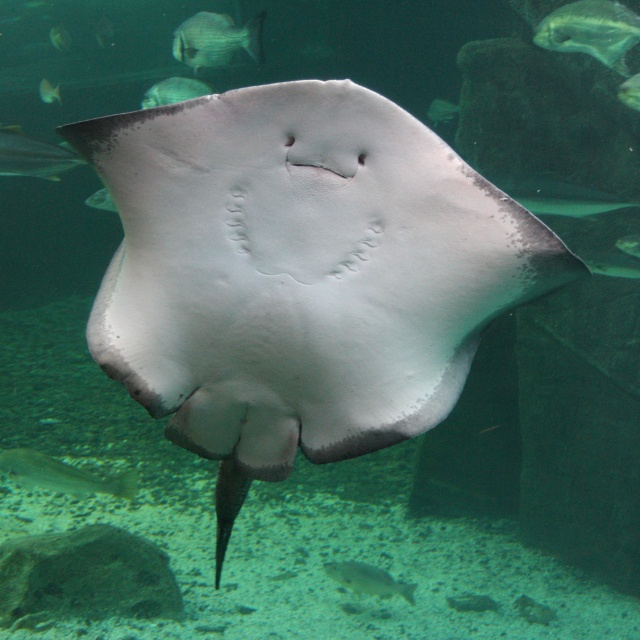Fish: (0, 0, 640, 606)
